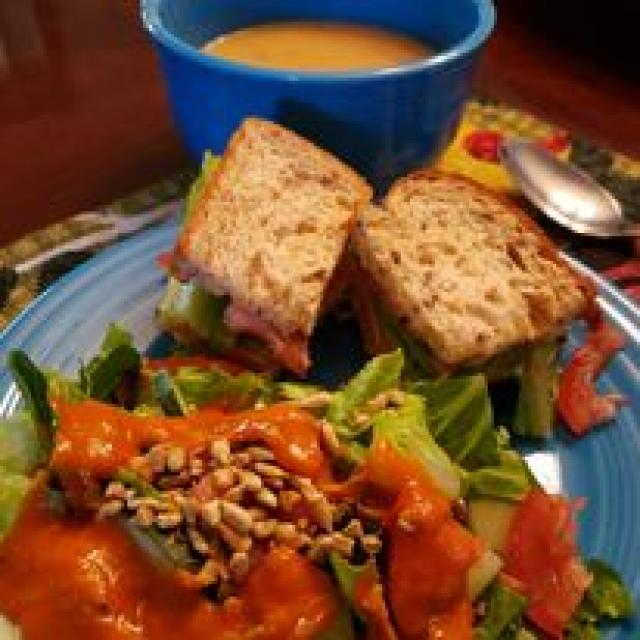Sandwich: (124, 118, 590, 376)
